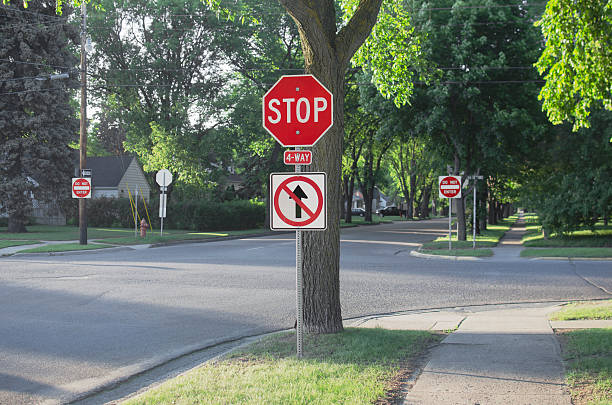StopSign: (261, 74, 332, 148)
